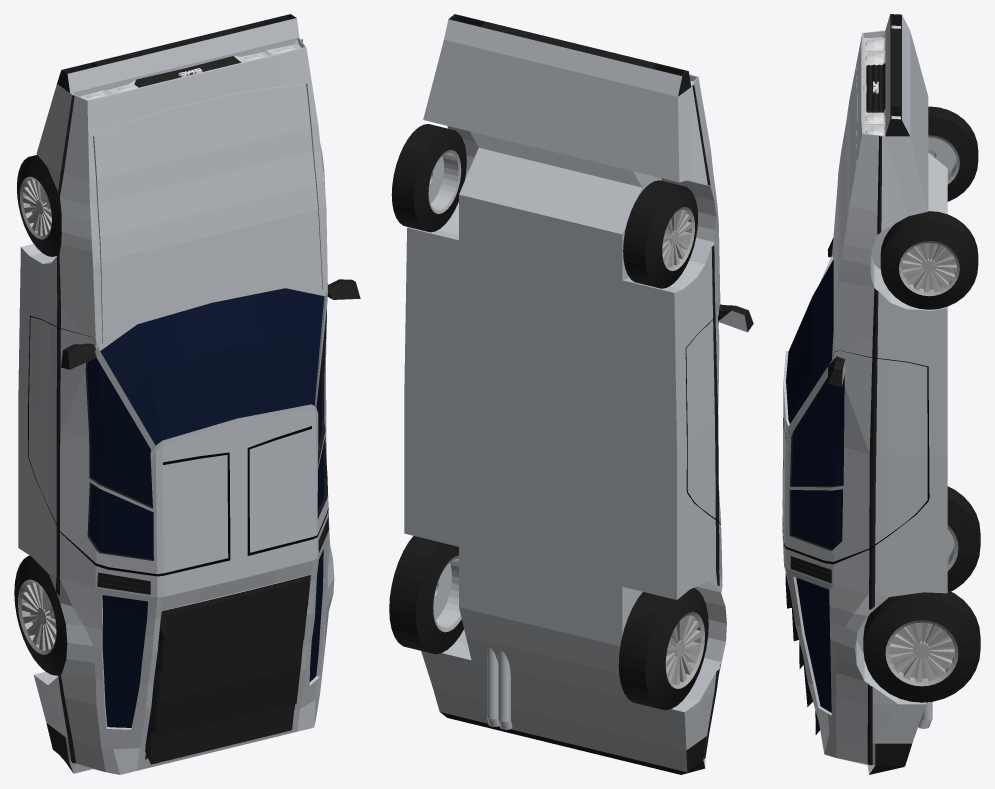
File: Dolorian84.fbx
3 renders of one model, left to right at view 1: azimuth 30°, elevation 25°; view 2: azimuth 150°, elevation 25°; view 3: azimuth 270°, elevation 25°, orthographic. The views are drawn at different scales.
Parts seen in each view (by area): view 1: Car, BackRight_tire.001, FrontRight_tire.001; view 2: Car, BackRight_tire.001, BackLeft_tire.001, FrontRight_tire.001, FrontLeft_tire.001, Car.001; view 3: Car, BackLeft_tire.001, FrontLeft_tire.001, FrontRight_tire.001, BackRight_tire.001.
Boxes of the visible parts, left/top/right/bottom form: Car: left=18, top=14, right=360, bottom=774; BackRight_tire.001: left=14, top=555, right=67, bottom=675; FrontRight_tire.001: left=17, top=155, right=61, bottom=256; Car: left=404, top=14, right=753, bottom=774; BackRight_tire.001: left=618, top=588, right=708, bottom=710; BackLeft_tire.001: left=389, top=536, right=463, bottom=654; FrontRight_tire.001: left=623, top=180, right=697, bottom=288; FrontLeft_tire.001: left=391, top=124, right=466, bottom=232; Car.001: left=487, top=648, right=512, bottom=729; Car: left=782, top=14, right=947, bottom=774; BackLeft_tire.001: left=863, top=590, right=980, bottom=702; FrontLeft_tire.001: left=880, top=211, right=978, bottom=309; FrontRight_tire.001: left=928, top=106, right=978, bottom=201; BackRight_tire.001: left=947, top=486, right=980, bottom=591.
Size of the model in its own units: 1057 by 2375 by 653.
